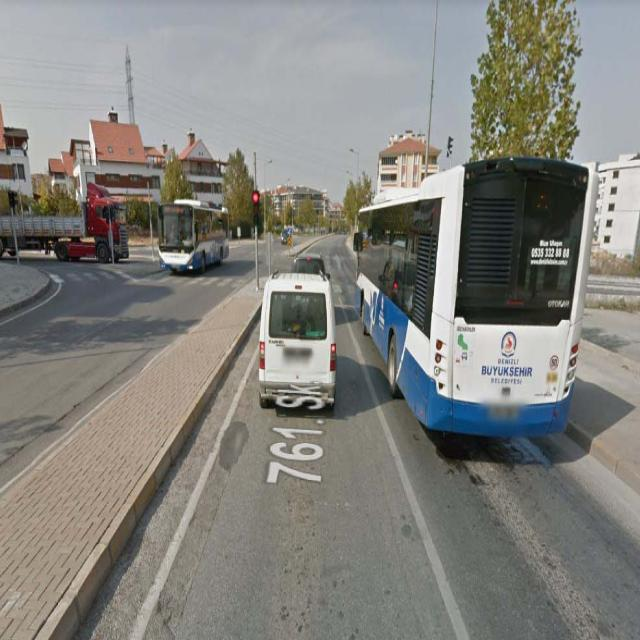kirmizi: (253, 191, 259, 224)
